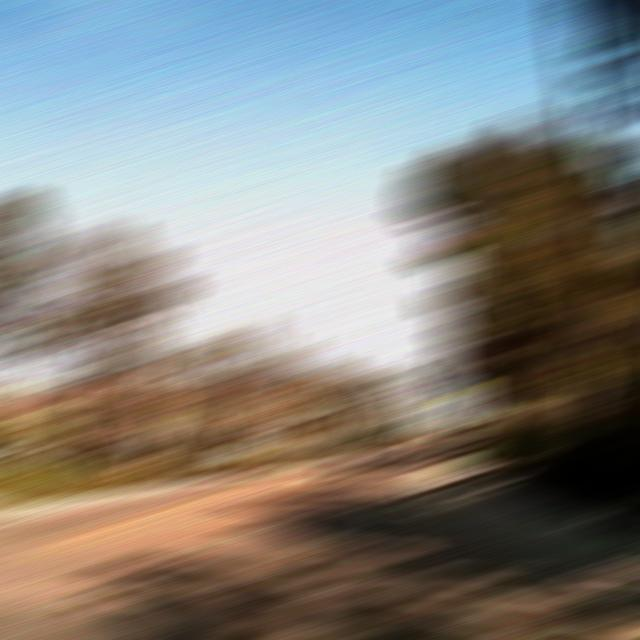speedLimit25: (446, 390, 482, 420)
